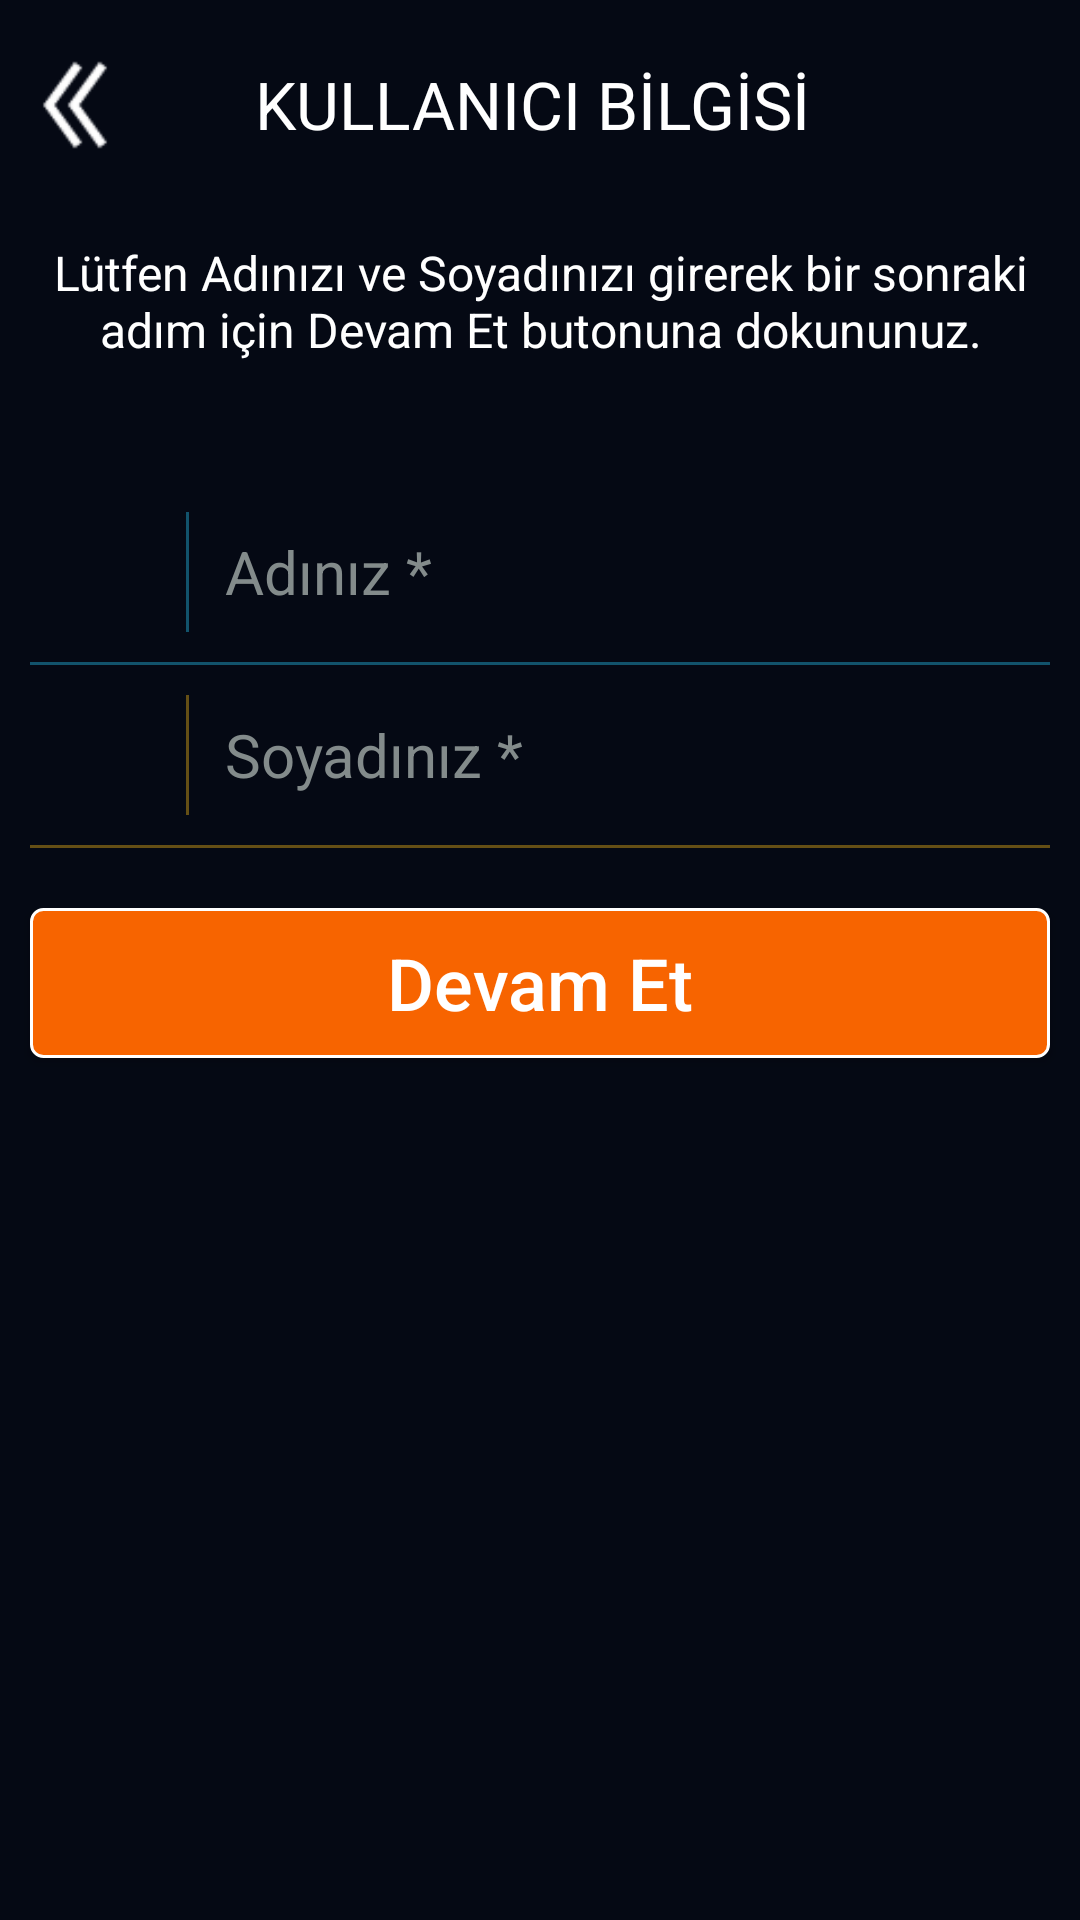

Icon click points for this 1080x1920 phone screenshot, format [x,y]:
back double: [75,105]
